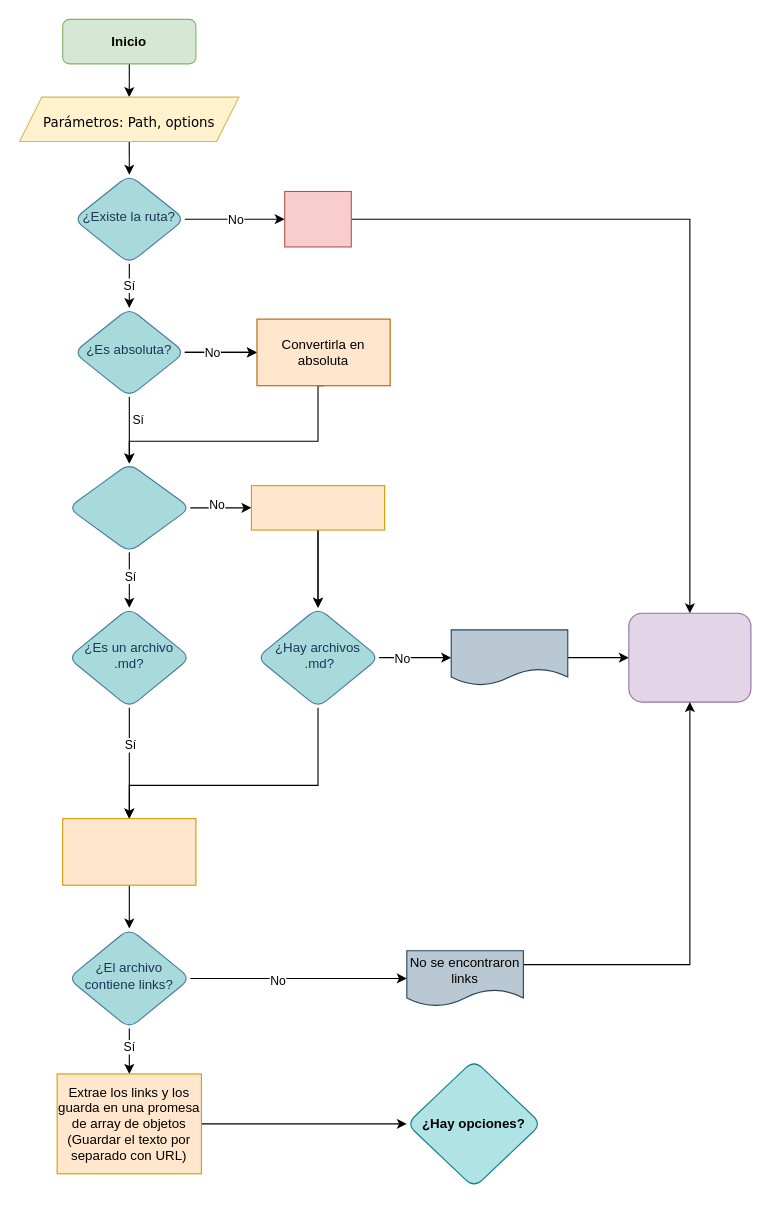
The diagram is 770 pixels wide and 1208 high, and some of its shapes have lost their labels. Here are the shapes that lost their labels. From the top down, the centre of each, then its label:
point 317,218: Error
point 128,507: ¿Es un archivo?
point 317,507: Recorrer el directorio
point 509,657: No se encontraron archivos .md
point 689,657: Fin
point 129,851: Guardar los archivos md en un array y los recorre uno por uno
